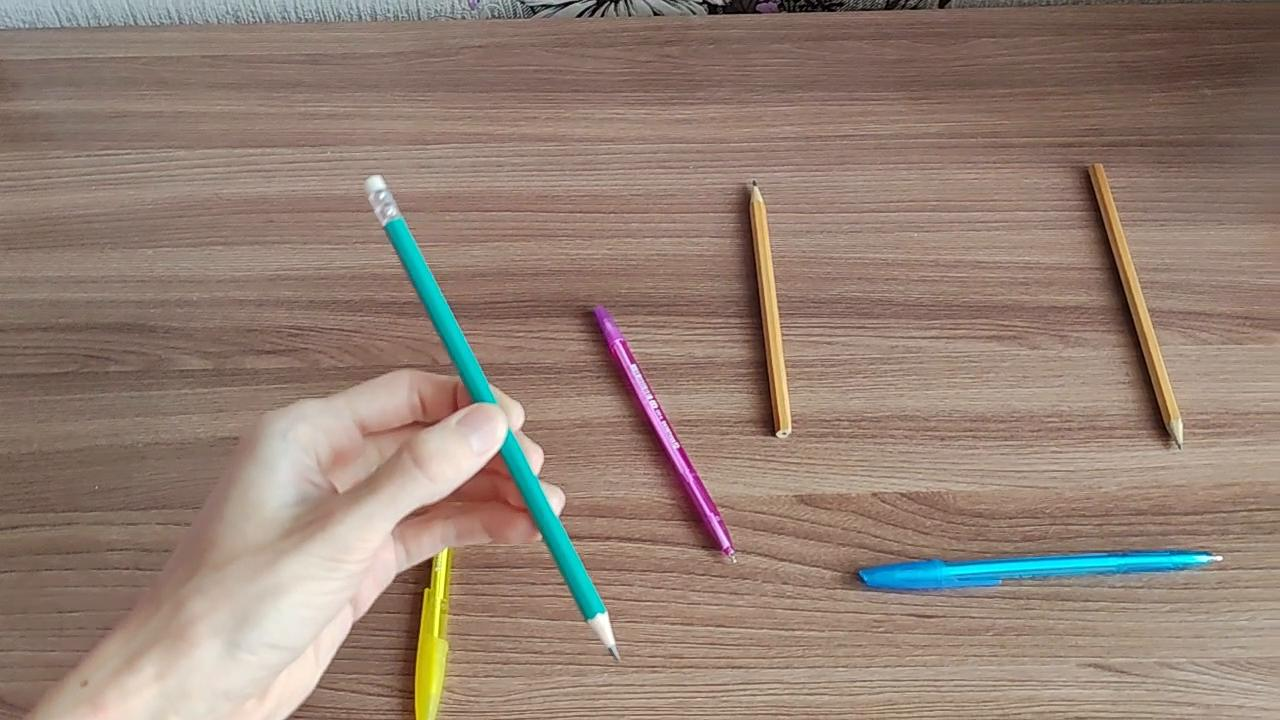pen: (597, 305, 740, 569), (846, 547, 1227, 596), (409, 543, 460, 720)
pencil: (361, 170, 624, 665), (1086, 157, 1187, 454), (749, 179, 796, 443)
